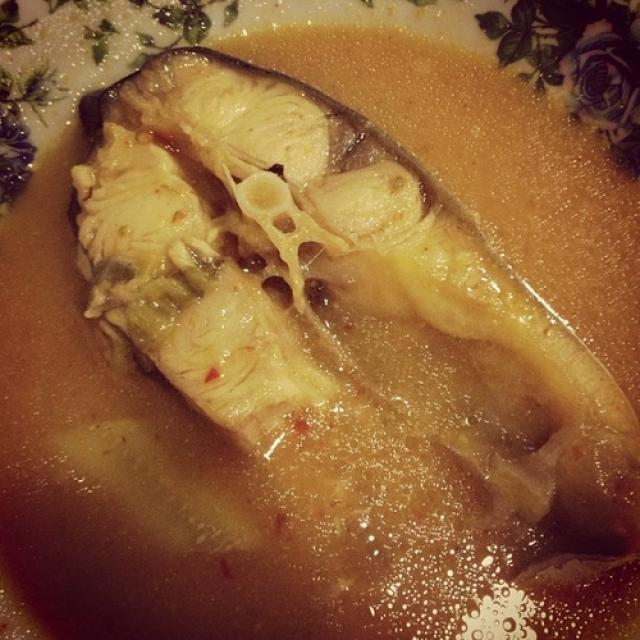熟制海鲜: (11, 18, 630, 618)
